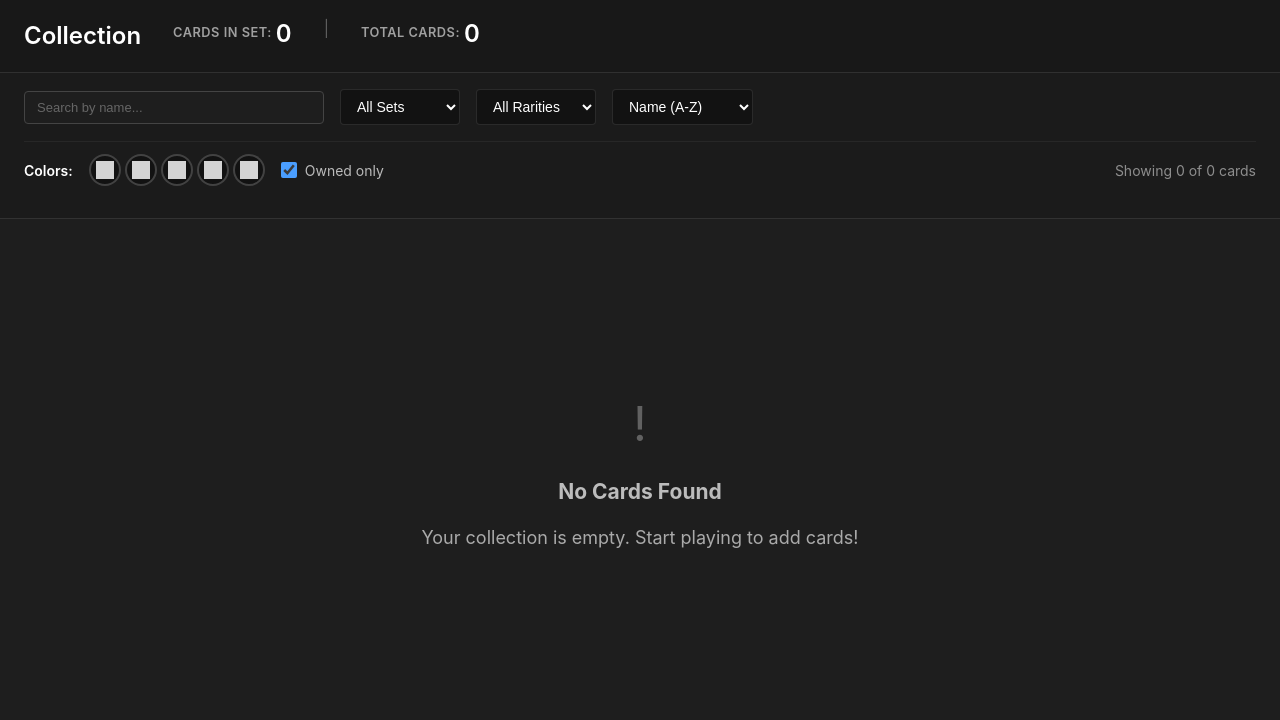
Test: Collection › Empty State Variations › should show filter adjustment suggestion when filters are active
Expected: the heading "No Cards Found" is shown, [558,476,722,508]
Toggle a color filter
Click the button titled "Red" at (213, 170), box [197,154,229,186]
Wait 350 ms
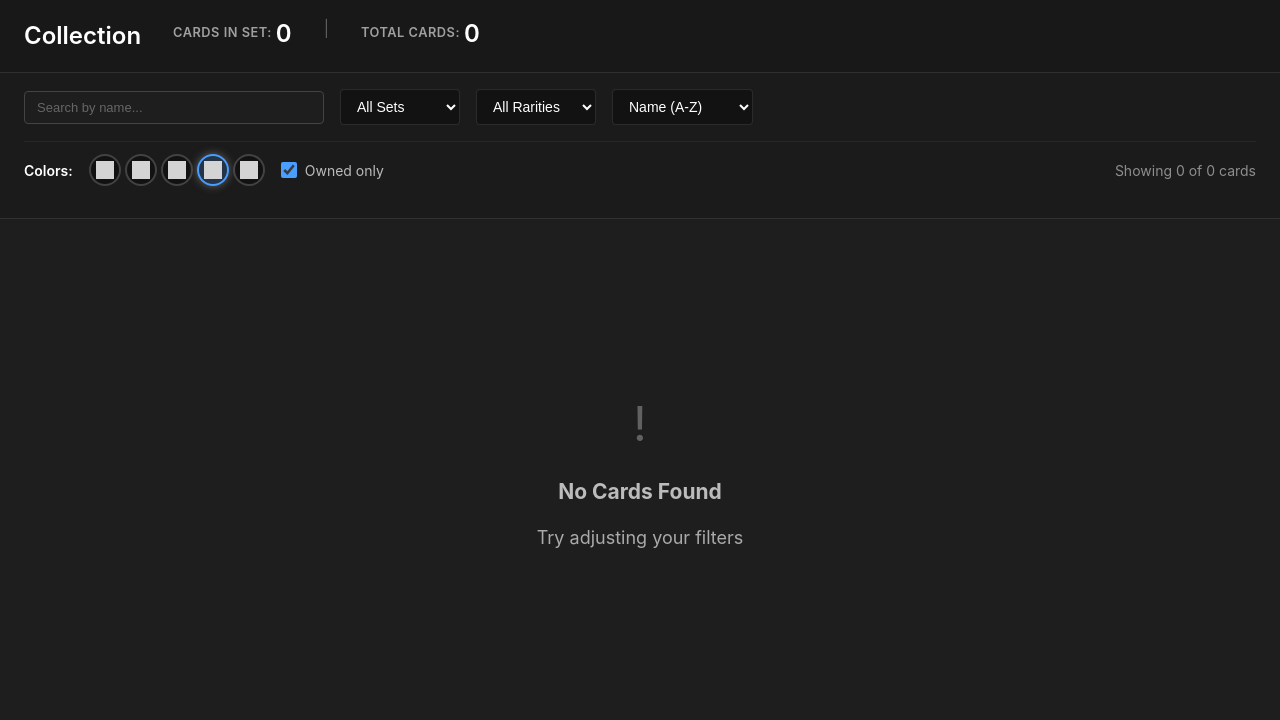
Expected: the text "Try adjusting your filters" is shown, [537,524,743,551]
